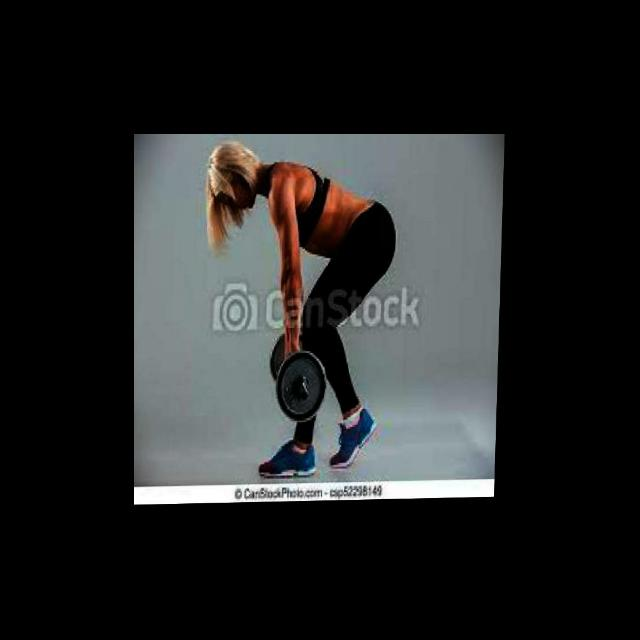barbell: (271, 347, 328, 427)
